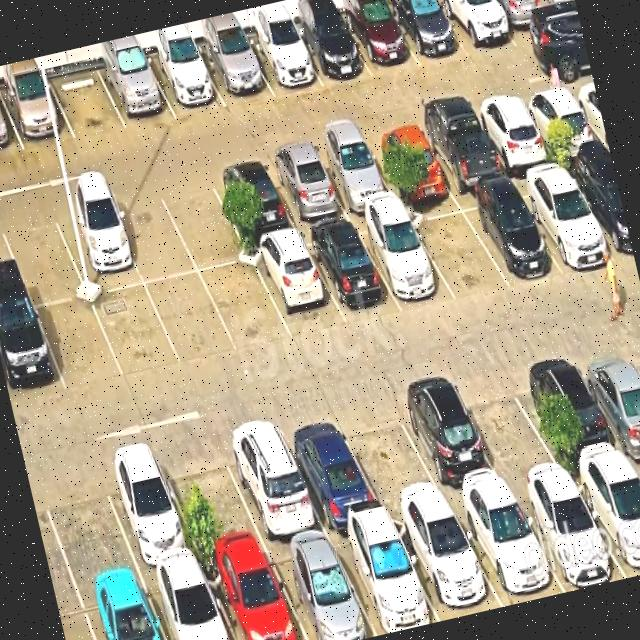empty: (452, 363, 566, 489), (155, 435, 266, 560), (34, 458, 139, 589), (334, 394, 447, 514), (405, 200, 509, 299), (156, 171, 250, 271), (107, 186, 197, 283), (145, 272, 237, 365), (91, 284, 182, 378), (0, 208, 87, 306), (36, 297, 124, 392), (200, 261, 292, 351), (48, 66, 126, 138)
occupied: (390, 377, 509, 504), (216, 415, 326, 545), (94, 446, 201, 573), (275, 408, 385, 530), (521, 349, 629, 473), (511, 477, 626, 592), (452, 491, 565, 606), (391, 507, 503, 621), (329, 519, 439, 635), (264, 535, 376, 640), (511, 168, 617, 271), (456, 186, 560, 285), (249, 234, 346, 339), (301, 222, 400, 323), (353, 211, 455, 308), (202, 549, 307, 640), (50, 196, 143, 295), (572, 339, 640, 458), (571, 460, 640, 577), (414, 110, 507, 192), (563, 158, 635, 262), (208, 159, 297, 243), (142, 562, 235, 640), (262, 147, 349, 228), (310, 136, 398, 214), (363, 123, 452, 199), (470, 96, 556, 174), (0, 304, 66, 405), (519, 85, 603, 160), (339, 0, 420, 77), (290, 14, 372, 86), (145, 48, 226, 118), (78, 576, 166, 640), (97, 57, 176, 128), (385, 0, 469, 66), (0, 77, 75, 150), (242, 28, 322, 95), (198, 39, 273, 106), (433, 0, 516, 59), (485, 0, 563, 45), (0, 94, 24, 155), (539, 0, 582, 34)
